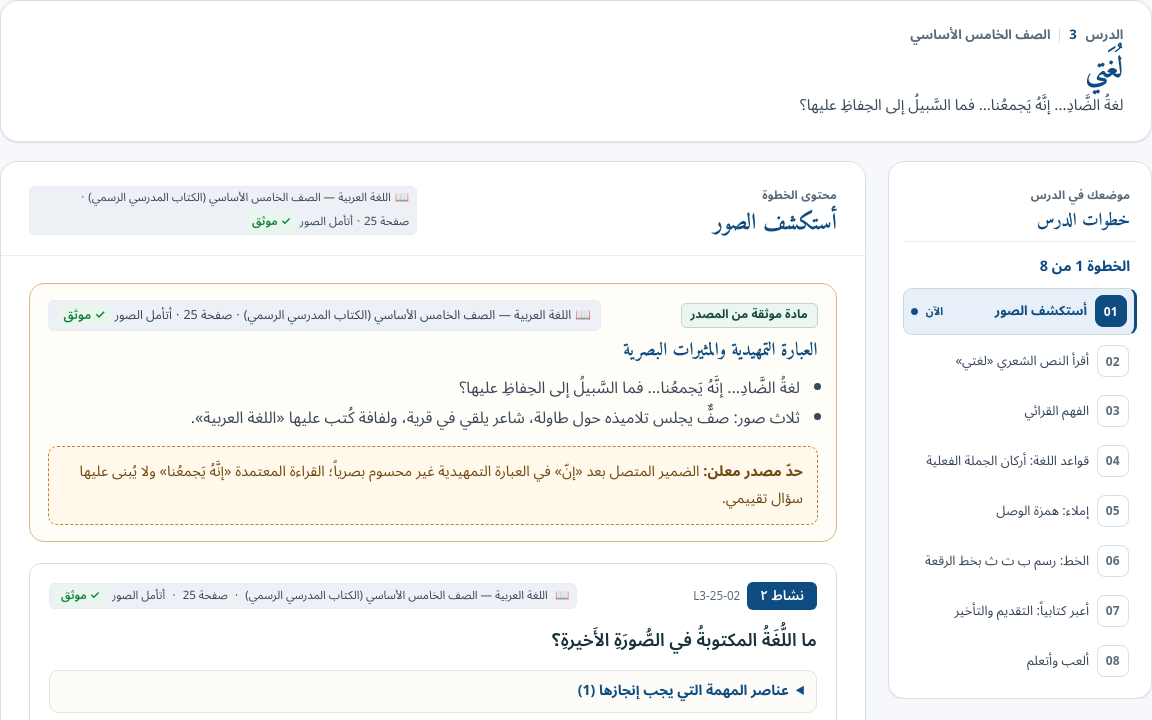
PR 3 — rendered student surface › keeps reading-aloud and recitation activities visible
This screenshot has width=1152, height=720.
Click the button with aria-label "الخطوة 2:". click: (1020, 361)
box: [903,338,1137,385]
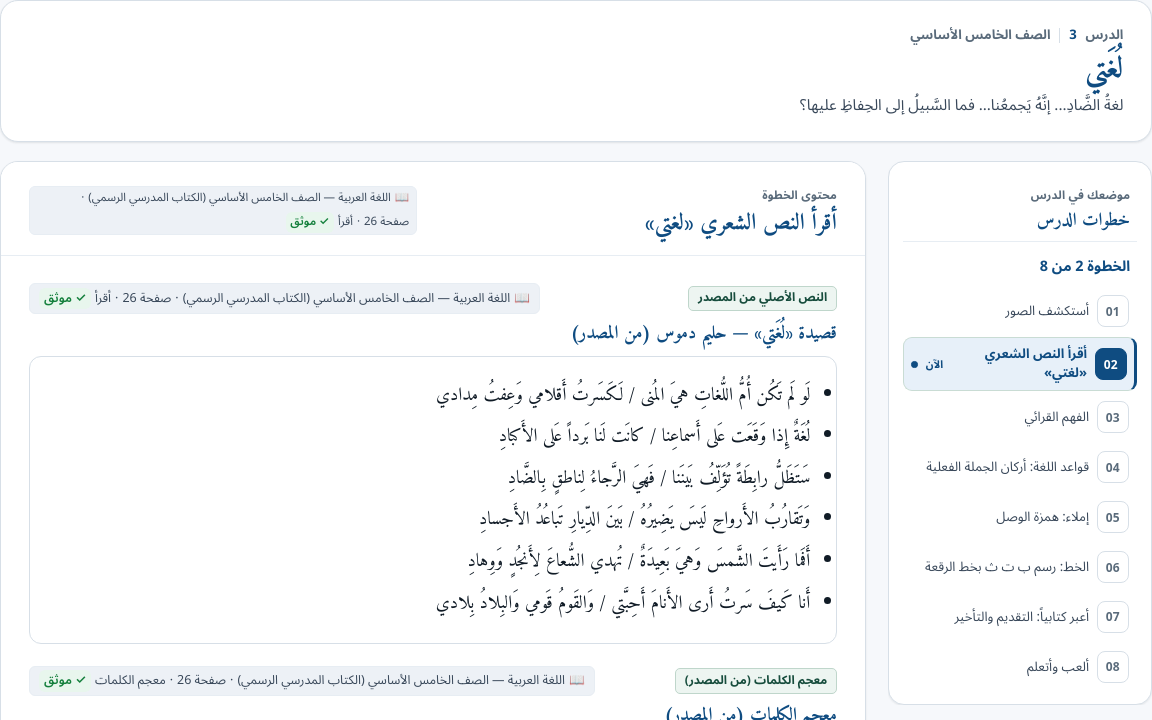
Click the button with aria-label "الخطوة 3:". click: (1020, 417)
box: [903,394,1137,441]
(page scrolled)
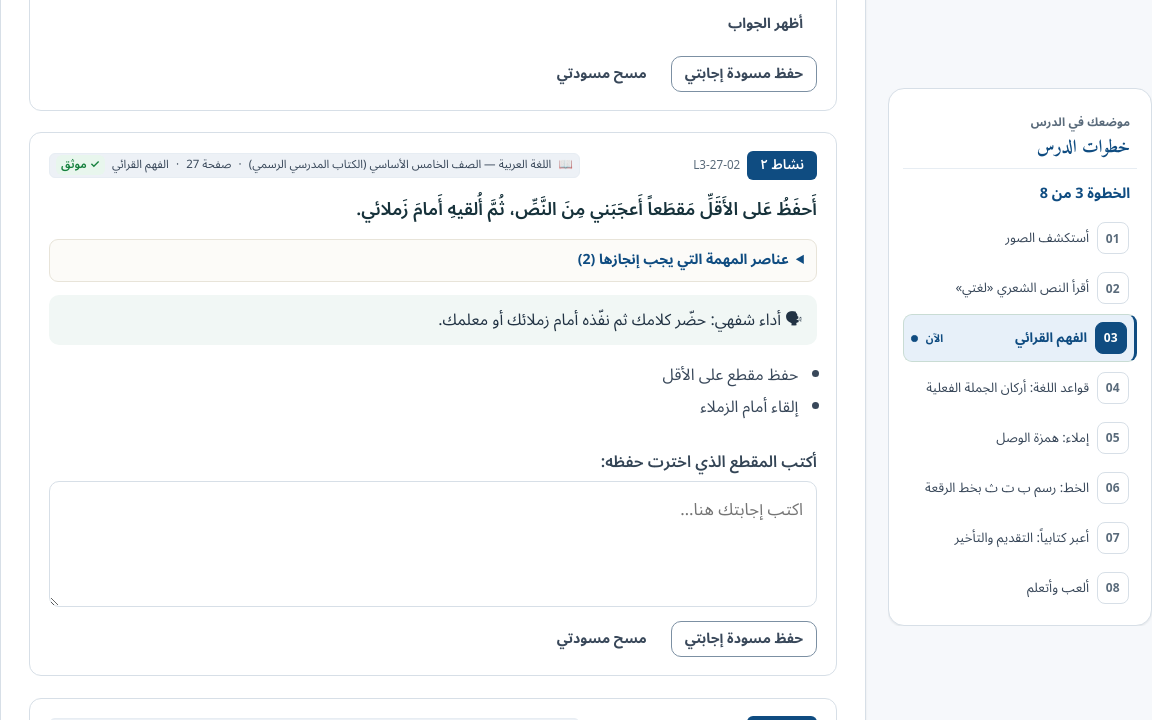
Now the element named "نشاط المصدر L3-27-02" is shown, box [29,132,837,676]
